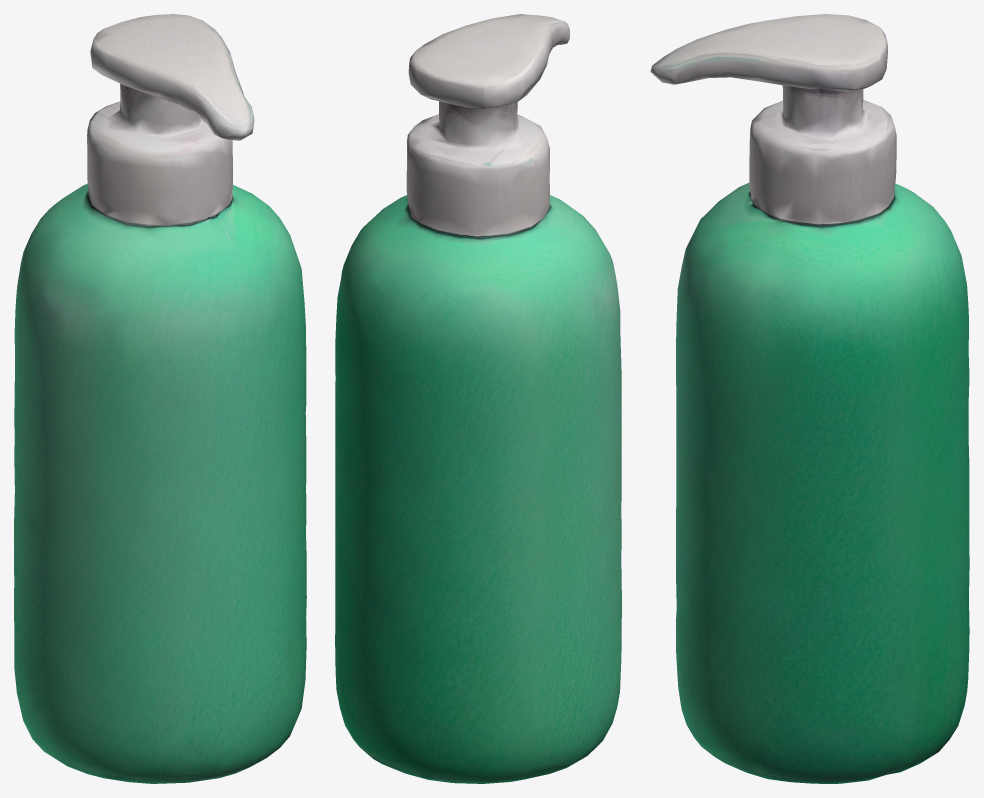
Rendered from P_Shampoo_h32.fbx.
3 renders of one model, left to right at view 1: azimuth 30°, elevation 25°; view 2: azimuth 150°, elevation 25°; view 3: azimuth 270°, elevation 25°, orthographic. The views are drawn at different scales.
Parts seen in each view (by area): view 1: texture_mapping; view 2: texture_mapping; view 3: texture_mapping.
Part boxes in pixels (x1,y1,x2,y2): texture_mapping: [14, 14, 306, 783]; texture_mapping: [335, 14, 621, 783]; texture_mapping: [650, 14, 969, 783].
Size of the model in its own units: 37.95 by 100 by 41.23.
1 material, 1 textured.
